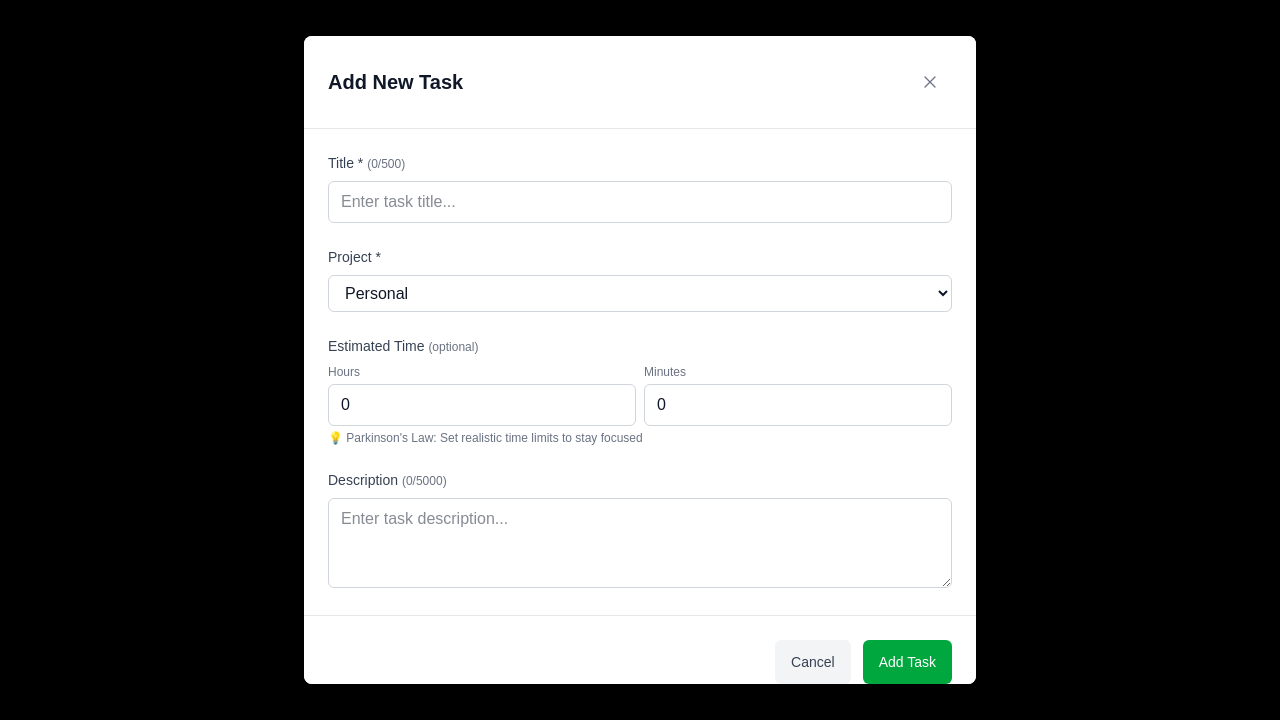
it: AddTaskModal - Form Validation › Happy Path - Form Validation › validates required title field
# Try to submit without title
Click the button "Add Task": (907, 662) [863,640,952,684]
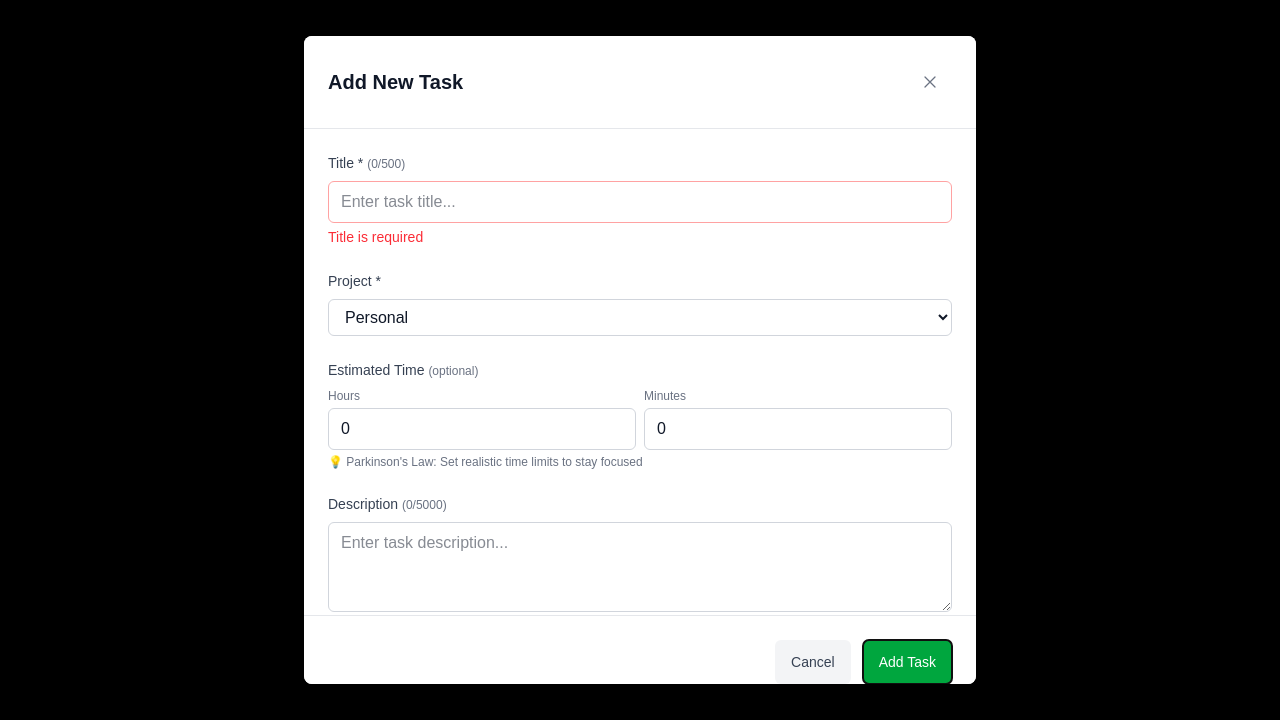
Check: the text "Title is required" is shown, box [328,229,423,245]
